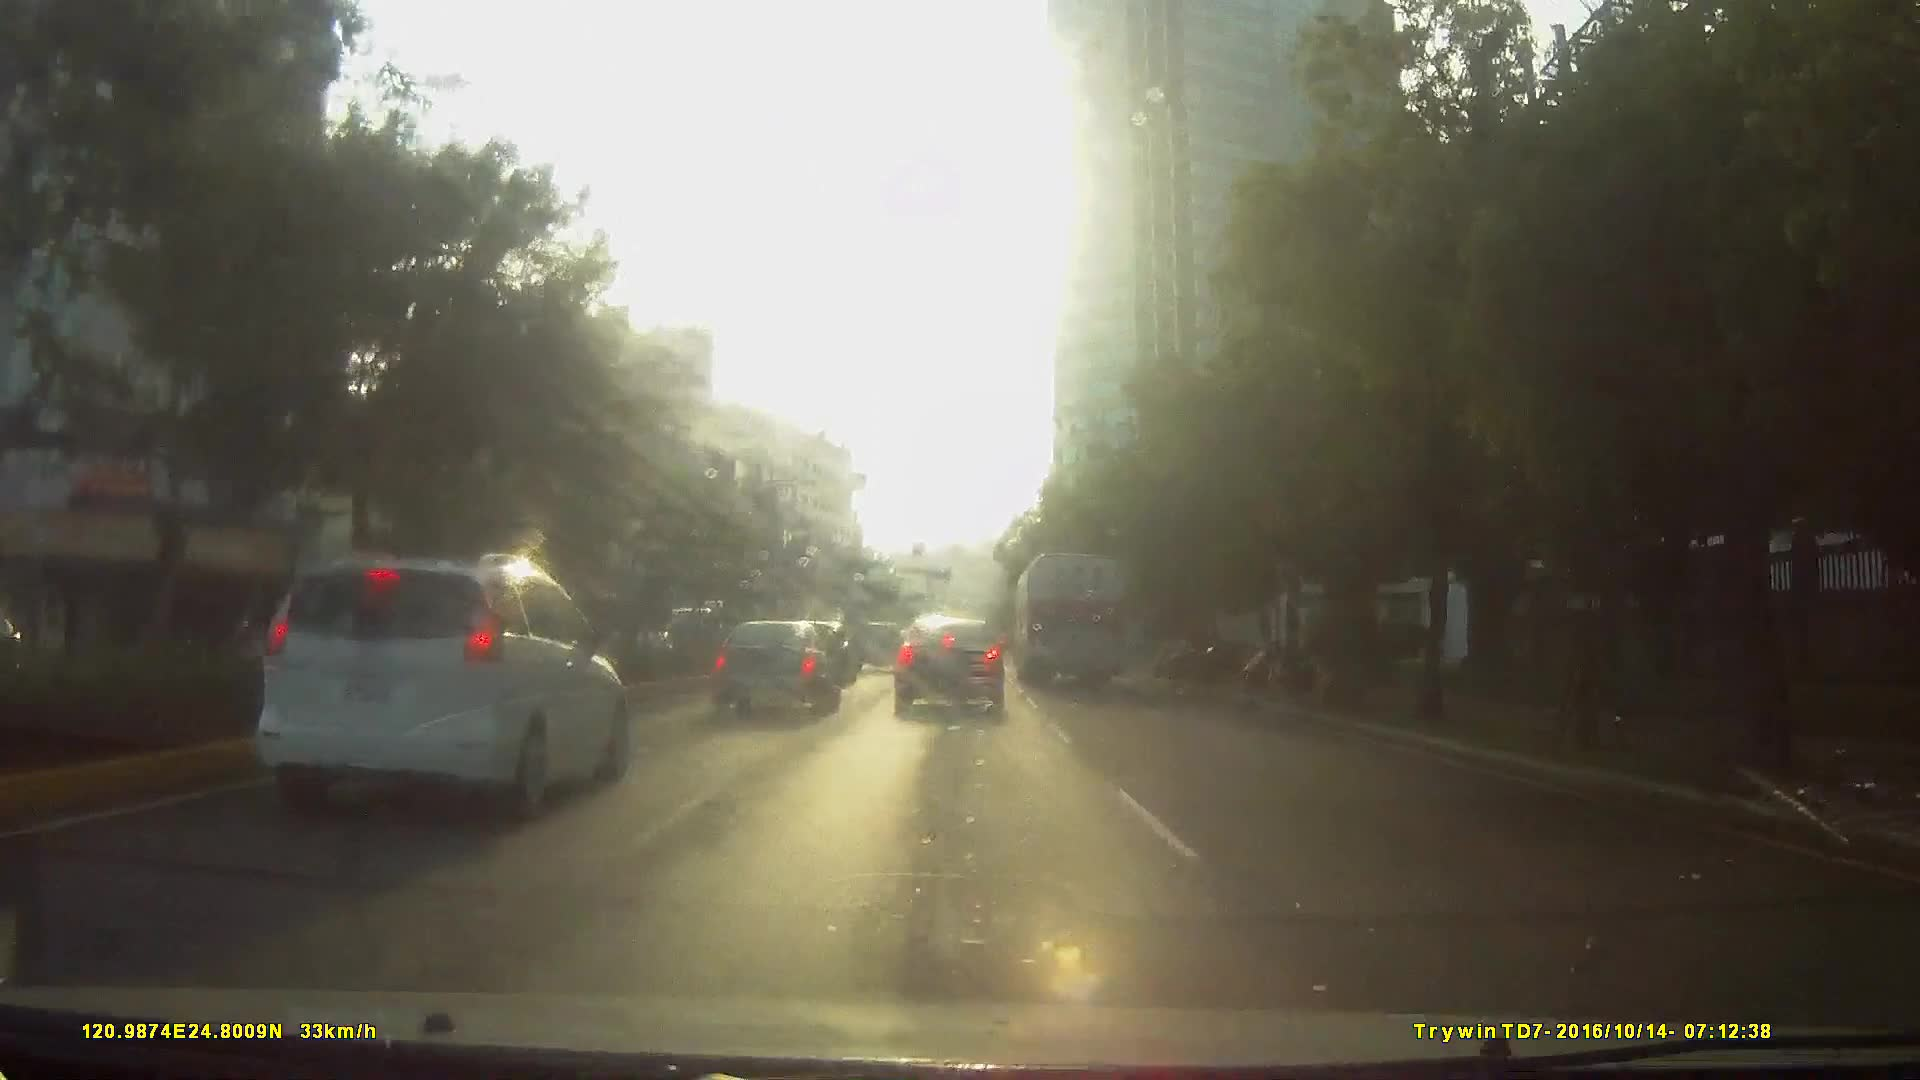vehicle: (251, 556, 684, 868), (229, 547, 638, 829), (1013, 549, 1129, 688), (707, 615, 844, 717), (893, 611, 1007, 717), (849, 617, 905, 675)
